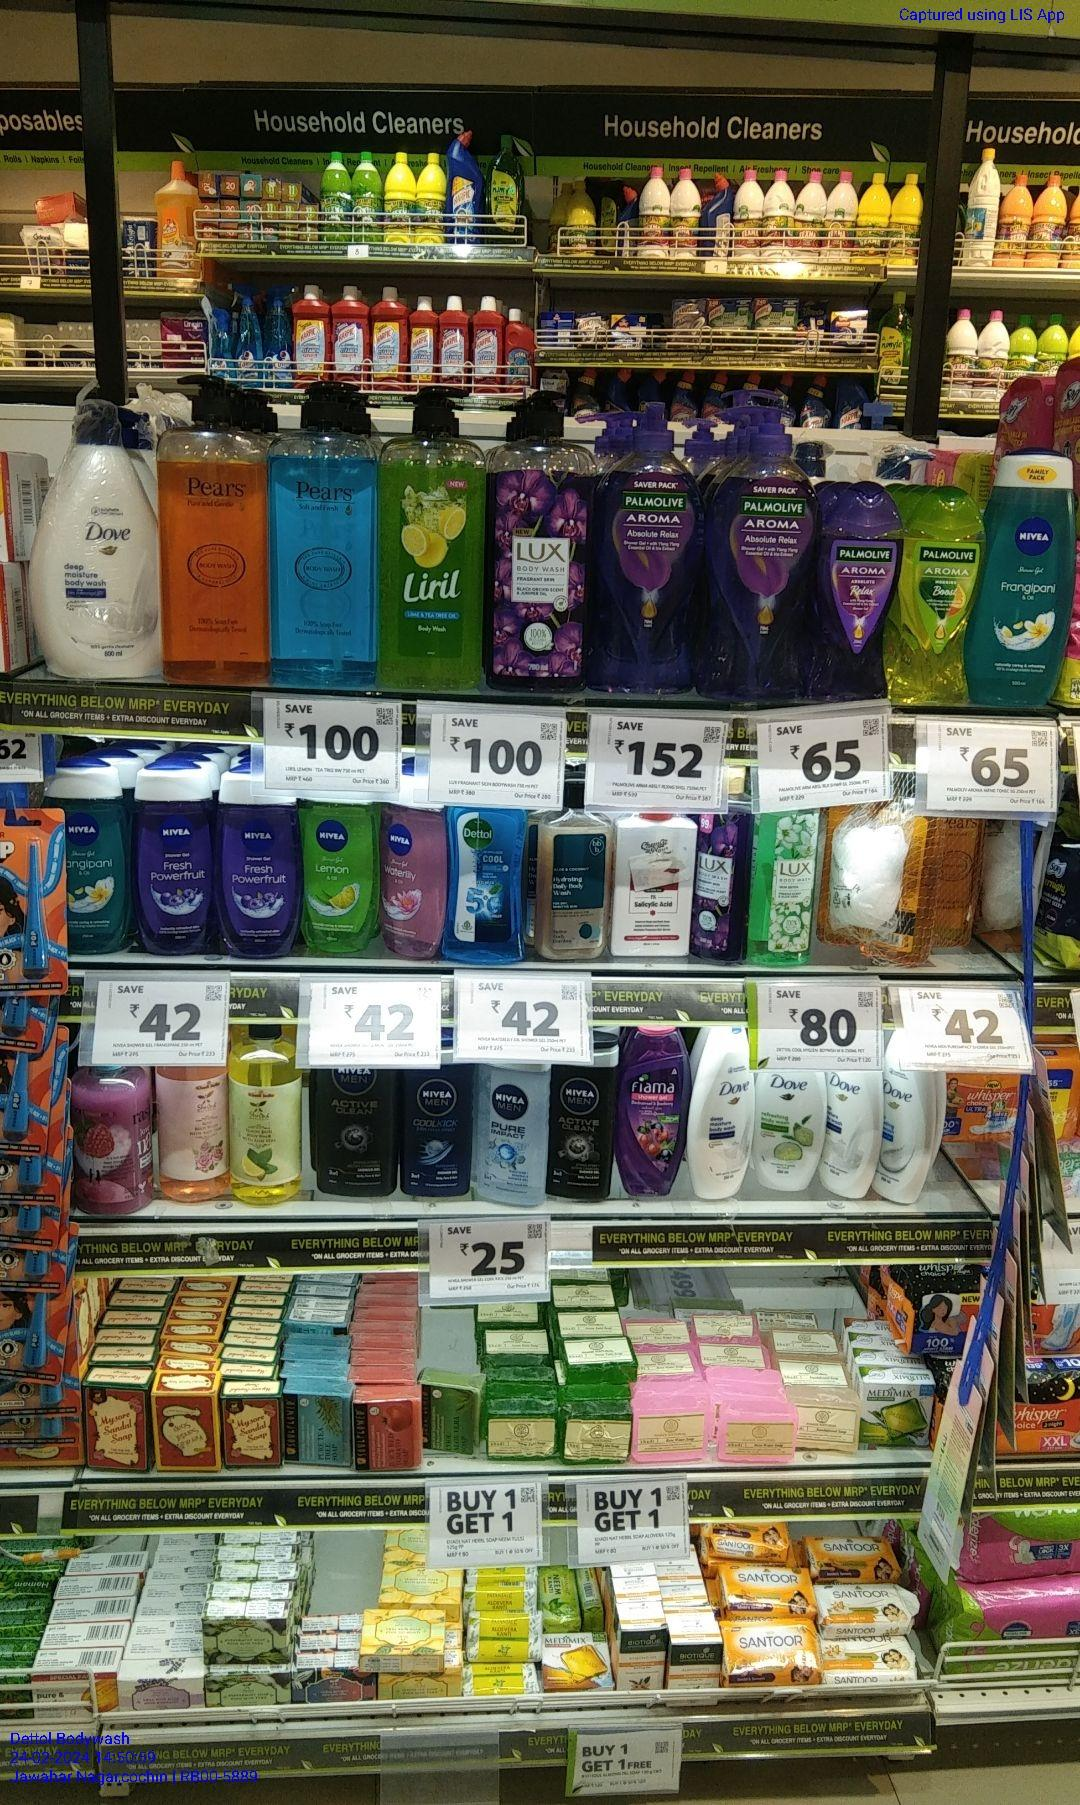Dettol_Bodywash_Cool: (453, 806, 526, 963)
Dove_Deep_Moisture_Body_Wash_250ML: (689, 1028, 753, 1203), (831, 1066, 874, 1198)
Dove_Gentle_Exfoliating_Body_Wash_250ML: (886, 1068, 930, 1199)
Dove_Refreshing_Body_Wash_250ML: (760, 1063, 824, 1198)
Lux_Black_Orchid_Scent_and_Juniper_Oil_Body_Wash_245ML: (697, 806, 743, 960)
Lux_Body_Wash_Skin_Detox_Freesia_Scent_and_Alove_Vera_245ML: (761, 806, 816, 968)
Nivea_Shower_Gel_Frangipani_and_Oil_250ML: (973, 453, 1077, 703), (66, 762, 134, 950)
Nivea_Shower_Gel_Fresh_Powerfruit_250ML: (219, 782, 301, 954), (139, 770, 215, 954)
Nivea_Shower_Gel_Lemon_and_Oil_250ML: (303, 797, 379, 950)
Nivea_Shower_Gel_Waterlily_and_Oil_250ML: (386, 798, 447, 956)
Palmolive_Aroma_Relax_250ML: (819, 486, 896, 698)
